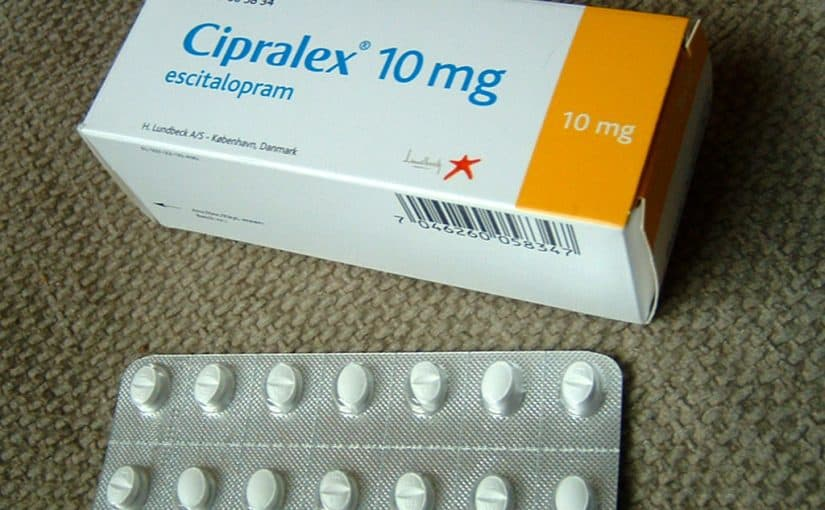Medicine: (81, 0, 739, 336)
